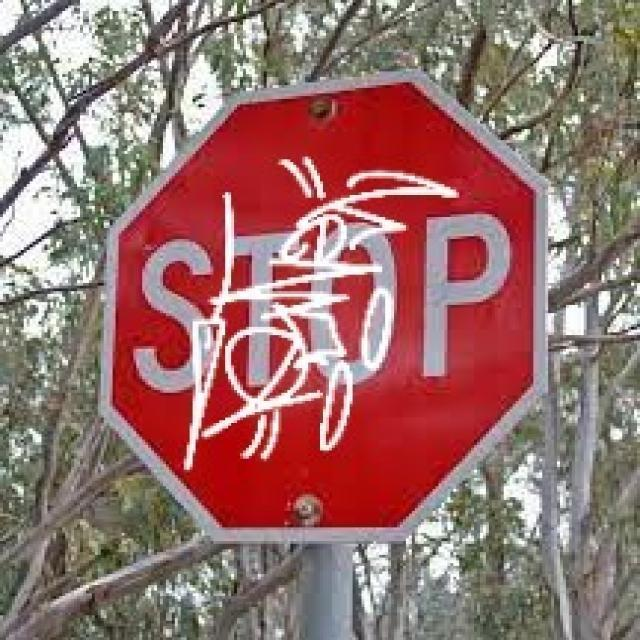Stop-Sign: (124, 91, 526, 512)
